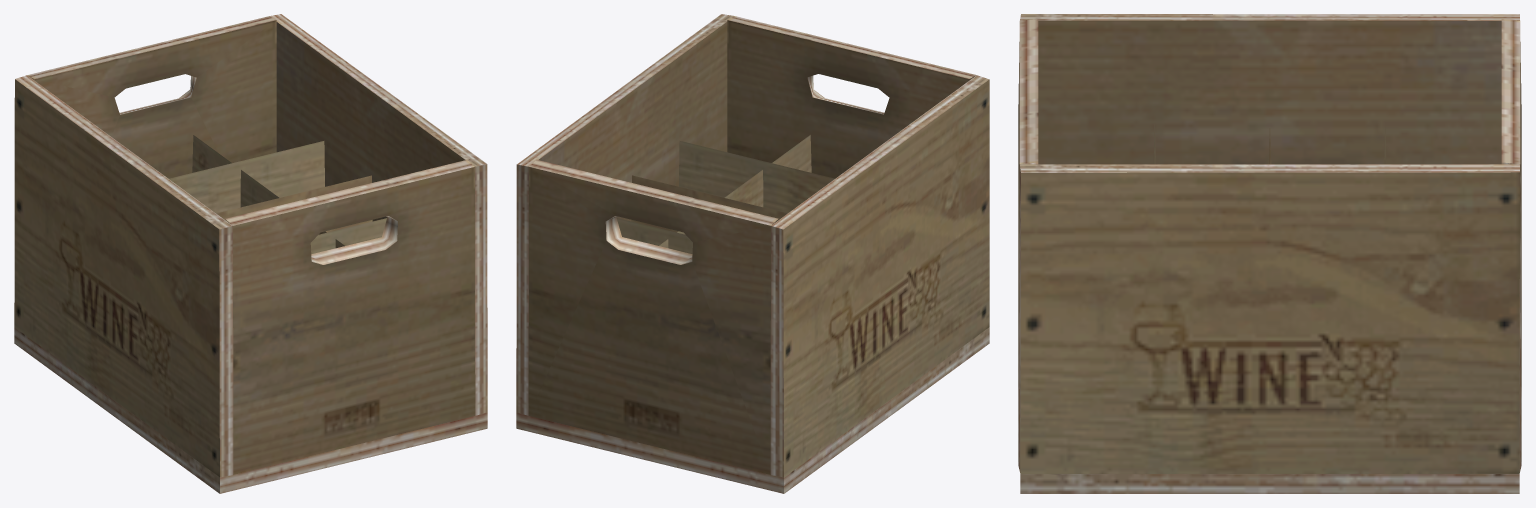
Rendered from com_wine_crate_open_lod1.glb.
3 views of the same model, side by side, from view 1: azimuth 30°, elevation 25°; view 2: azimuth 150°, elevation 25°; view 3: azimuth 270°, elevation 25° (orthographic). The views are drawn at different scales.
Parts seen in each view (by area): view 1: surf0; view 2: surf0; view 3: surf0.
Part boxes in pixels (<box>): surf0: <box>14,14,487,493</box>; surf0: <box>516,14,989,493</box>; surf0: <box>1018,14,1521,493</box>.
Size of the model in its own units: 17.94 by 17.06 by 24.
